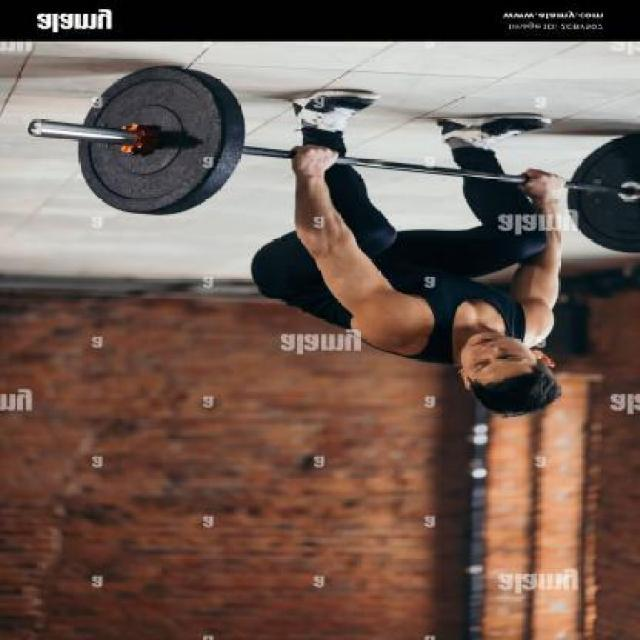Barbell: (12, 113, 56, 141)
